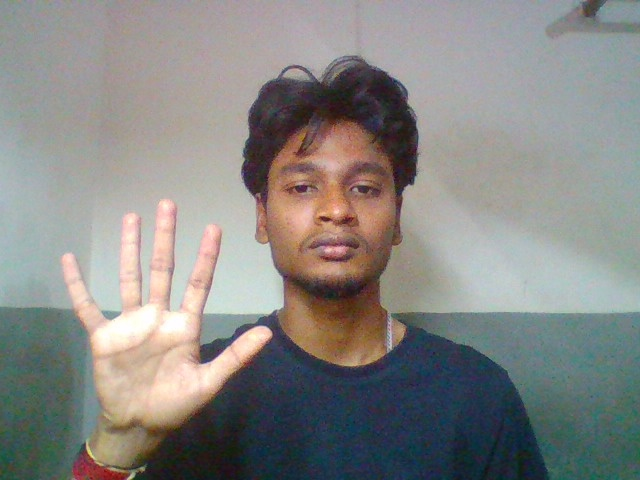Hello: (48, 192, 288, 444)
